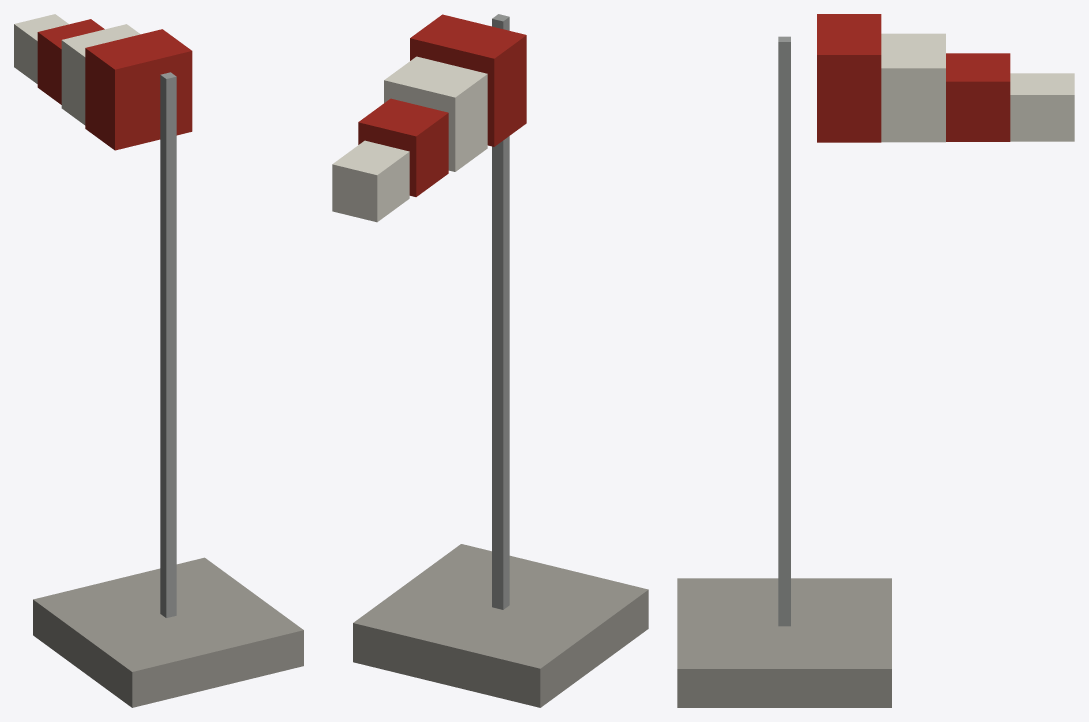
The model's file is biruta_base_concreto.glb.
The picture shows the model from 3 angles, left to right: view 1: azimuth 30°, elevation 25°; view 2: azimuth 150°, elevation 25°; view 3: azimuth 270°, elevation 25°; orthographic projection. The views are drawn at different scales.
Visible parts, largest first — view 1: biruta_base_concreto; view 2: biruta_base_concreto; view 3: biruta_base_concreto.
Part boxes in pixels (box(x1,y1,x2,y2)): biruta_base_concreto: box(14, 14, 303, 707); biruta_base_concreto: box(332, 14, 648, 707); biruta_base_concreto: box(677, 14, 1074, 707).
Bounding box in the file's own units: 2 × 6.45 × 3.7.
